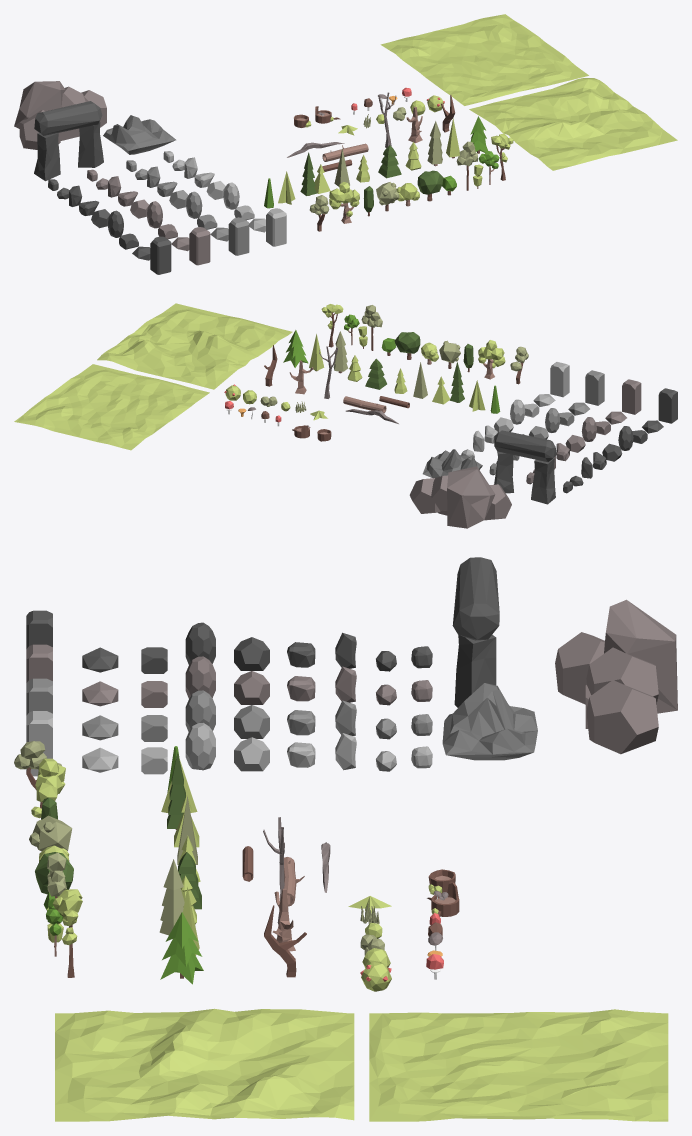
The model's file is summer_pack.fbx.
3 renders of one model, top to bottom at view 1: azimuth 30°, elevation 25°; view 2: azimuth 150°, elevation 25°; view 3: azimuth 270°, elevation 25°, orthographic. The views are drawn at different scales.
Visible parts, largest first — view 1: plane, stone_1_5, stone_3_5, stone_2_5, grass, stone_9_3, stone_9_4, stone_9_2, tree_2, stone_9, tree_6, ctree_7 (+7 smaller); view 2: plane, stone_3_5, stone_1_5, stone_2_5, grass, stone_9, stone_9_4, stone_9_2, stone_9_3, tree_2, tree_6, ctree_11 (+7 smaller); view 3: plane, stone_3_5, stone_1_5, stone_2_5, grass, ctree_11, stone_6, ctree_9, tree_2, tree_11, tree_4, stone_5 (+12 smaller).
Boxes of the visible parts, x1=… form: plane: x1=380, y1=14, x2=677, y2=170; stone_1_5: x1=34, y1=101, x2=103, y2=181; stone_3_5: x1=14, y1=81, x2=106, y2=149; stone_2_5: x1=103, y1=115, x2=175, y2=154; grass: x1=338, y1=95, x2=444, y2=135; stone_9_3: x1=189, y1=227, x2=210, y2=265; stone_9_4: x1=150, y1=236, x2=171, y2=274; stone_9_2: x1=228, y1=217, x2=249, y2=255; tree_2: x1=329, y1=182, x2=359, y2=223; stone_9: x1=266, y1=208, x2=286, y2=246; tree_6: x1=417, y1=170, x2=443, y2=201; ctree_7: x1=378, y1=145, x2=401, y2=178; plane: x1=14, y1=303, x2=292, y2=450; stone_3_5: x1=409, y1=466, x2=511, y2=528; stone_1_5: x1=494, y1=430, x2=556, y2=504; stone_2_5: x1=422, y1=449, x2=482, y2=478; grass: x1=224, y1=384, x2=327, y2=420; stone_9: x1=550, y1=362, x2=569, y2=397; stone_9_4: x1=658, y1=388, x2=677, y2=423; stone_9_2: x1=585, y1=370, x2=604, y2=405; stone_9_3: x1=622, y1=379, x2=641, y2=414; tree_2: x1=478, y1=340, x2=505, y2=379; tree_6: x1=394, y1=332, x2=420, y2=359; ctree_11: x1=283, y1=330, x2=308, y2=367; plane: x1=55, y1=1008, x2=668, y2=1121; stone_3_5: x1=555, y1=599, x2=677, y2=754; stone_1_5: x1=452, y1=557, x2=499, y2=707; stone_2_5: x1=442, y1=683, x2=537, y2=760; grass: x1=348, y1=896, x2=391, y2=991; ctree_11: x1=160, y1=912, x2=203, y2=984; stone_6: x1=185, y1=722, x2=215, y2=770; ctree_9: x1=159, y1=859, x2=184, y2=935; tree_2: x1=31, y1=758, x2=65, y2=818; tree_11: x1=52, y1=889, x2=82, y2=977; tree_4: x1=29, y1=815, x2=72, y2=851; stone_5: x1=234, y1=737, x2=269, y2=771.
Bounding box in the file's own units: 10544 × 1289 × 6434.
